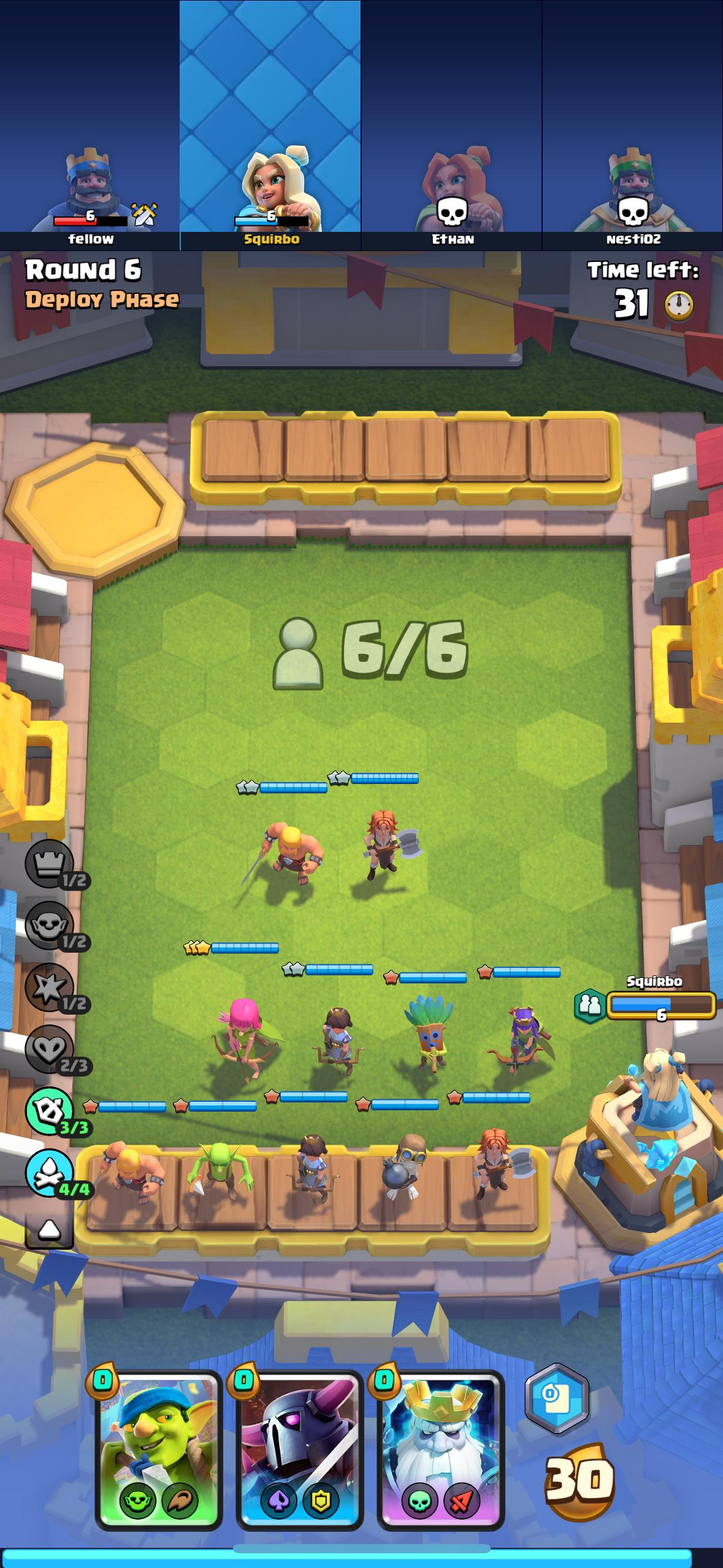archer: (194, 990, 289, 1092)
barbarian: (232, 815, 326, 895), (96, 1129, 174, 1206)
bomber: (366, 1121, 437, 1203)
dart: (395, 989, 462, 1084)
goblin: (184, 1126, 260, 1210)
hand-ghost: (377, 1372, 502, 1530)
hand-pekka: (239, 1374, 358, 1527)
hand-spear: (99, 1374, 220, 1528)
princess: (302, 996, 368, 1086), (281, 1128, 342, 1204)
queen: (484, 996, 557, 1080)
valkyrie: (461, 1115, 540, 1212), (353, 800, 428, 895)
